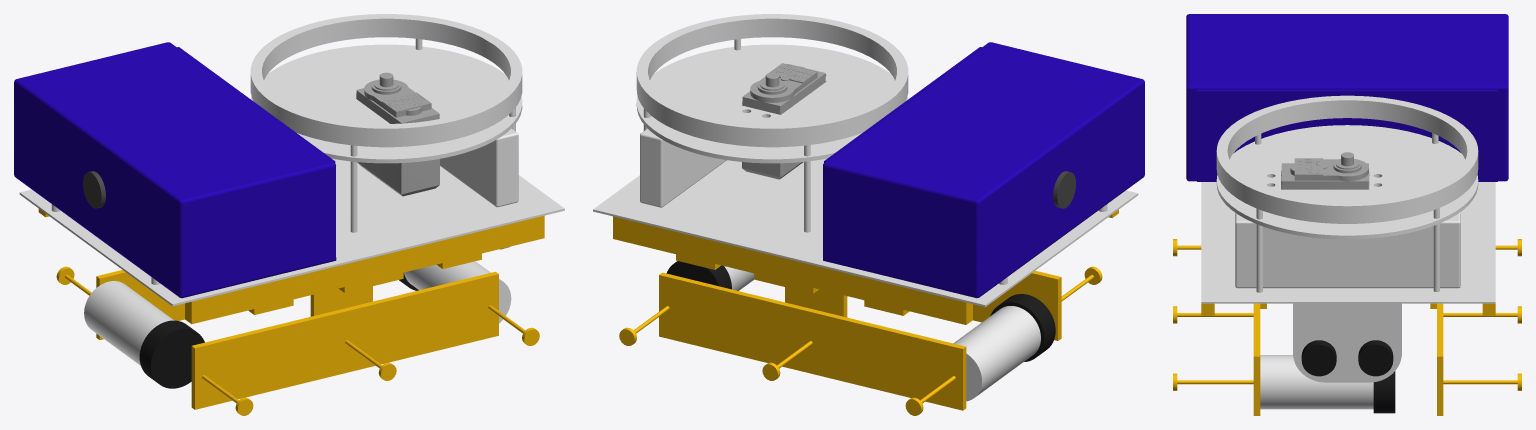
3 renders of one model, left to right at view 1: azimuth 30°, elevation 25°; view 2: azimuth 150°, elevation 25°; view 3: azimuth 270°, elevation 25°, orthographic. The views are drawn at different scales.
Visible parts, largest first — view 1: Brep (×16), Mesh, Extrusion; view 2: Brep (×15), Mesh, Extrusion (×2); view 3: Brep (×17), Mesh, Extrusion.
Part boxes in pixels (bbox=[...]): Brep (×16): bbox=[14, 14, 564, 409]; Mesh: bbox=[356, 72, 439, 196]; Extrusion: bbox=[139, 320, 204, 388]; Brep (×15): bbox=[593, 14, 1144, 410]; Mesh: bbox=[742, 63, 825, 179]; Extrusion (×2): bbox=[666, 261, 1055, 361]; Brep (×17): bbox=[1177, 14, 1517, 415]; Mesh: bbox=[1281, 152, 1369, 189]; Extrusion: bbox=[1373, 371, 1395, 413].
Size of the model in its own units: 0.21 by 0.16 by 0.12.
